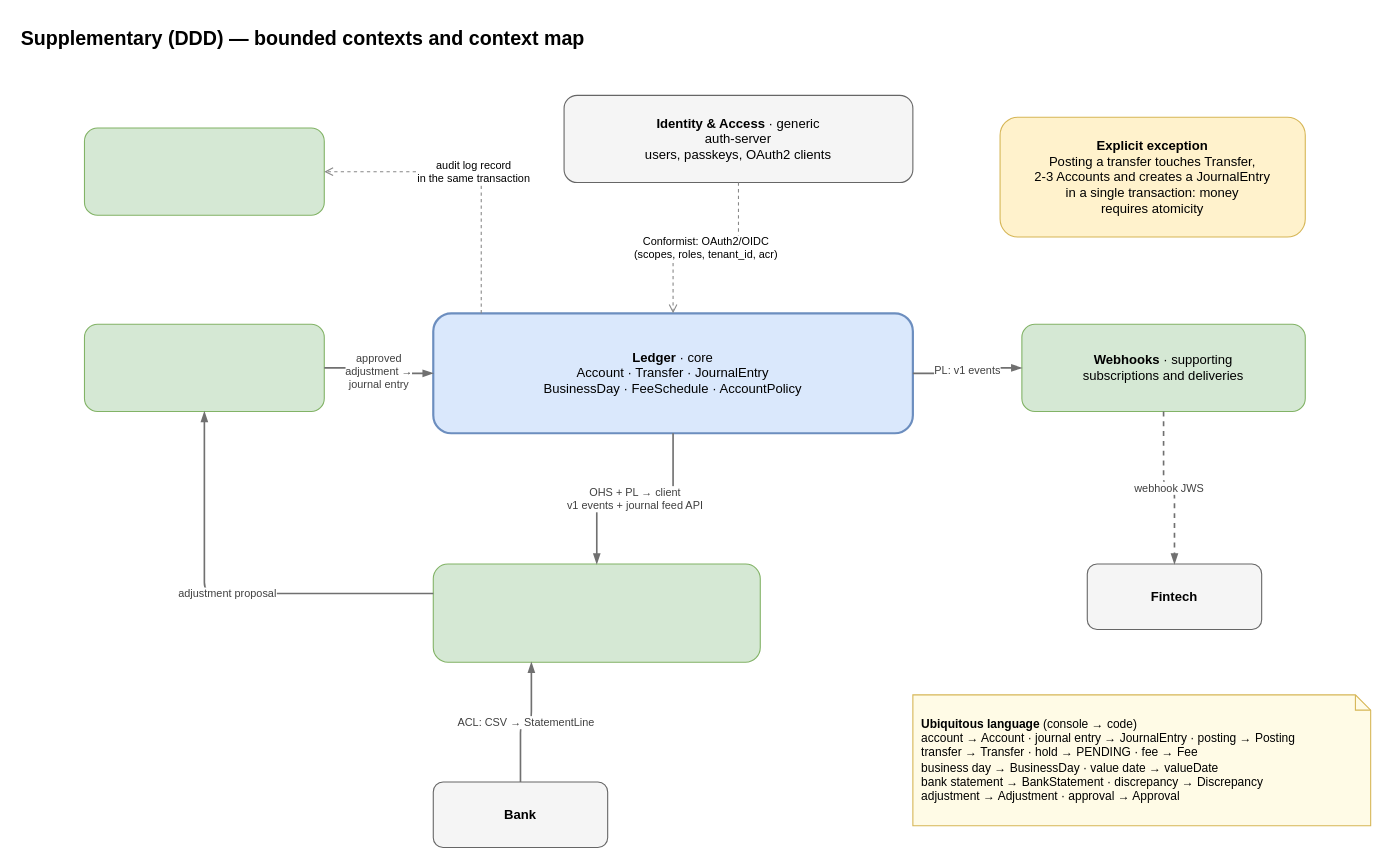
The diagram is 1390 pixels wide and 867 high, and some of its shapes have lost their labels. Here are the shapes that lost their labels. From the top down, the centre of each, then its label:
point 203,171: Audit · supporting hash chain + anchor
point 203,367: Approvals · supporting dual approval
point 596,612: Reconciliation · supporting StatementLine · Match · Discrepancy
